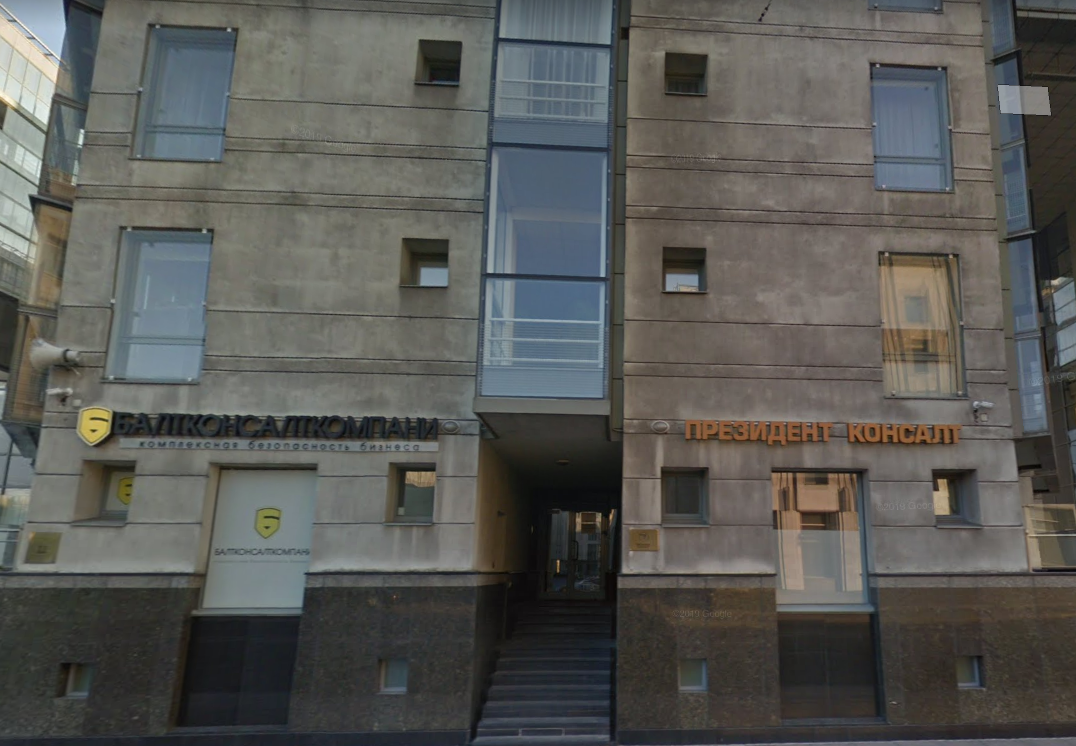signboard: (74, 404, 437, 453), (683, 417, 964, 449)
window: (488, 1, 623, 410), (107, 226, 211, 386), (131, 27, 237, 161), (884, 259, 968, 401), (867, 69, 944, 190)
